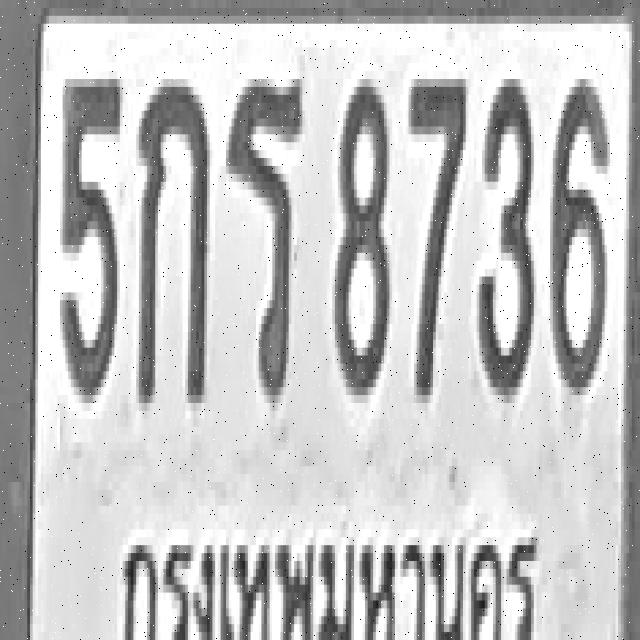10GorGai: (136, 71, 210, 403)
3: (476, 71, 534, 395)
44RorRuea: (226, 67, 302, 399)
5: (60, 71, 120, 395)
6: (550, 75, 607, 391)
7: (408, 67, 466, 399)
8: (334, 75, 388, 391)
Bangkok: (108, 500, 545, 640)
